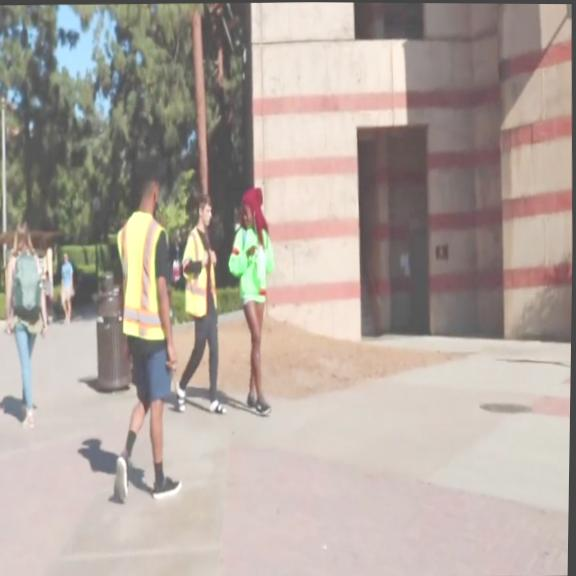safety_vest: (111, 209, 169, 341), (181, 222, 219, 317)
